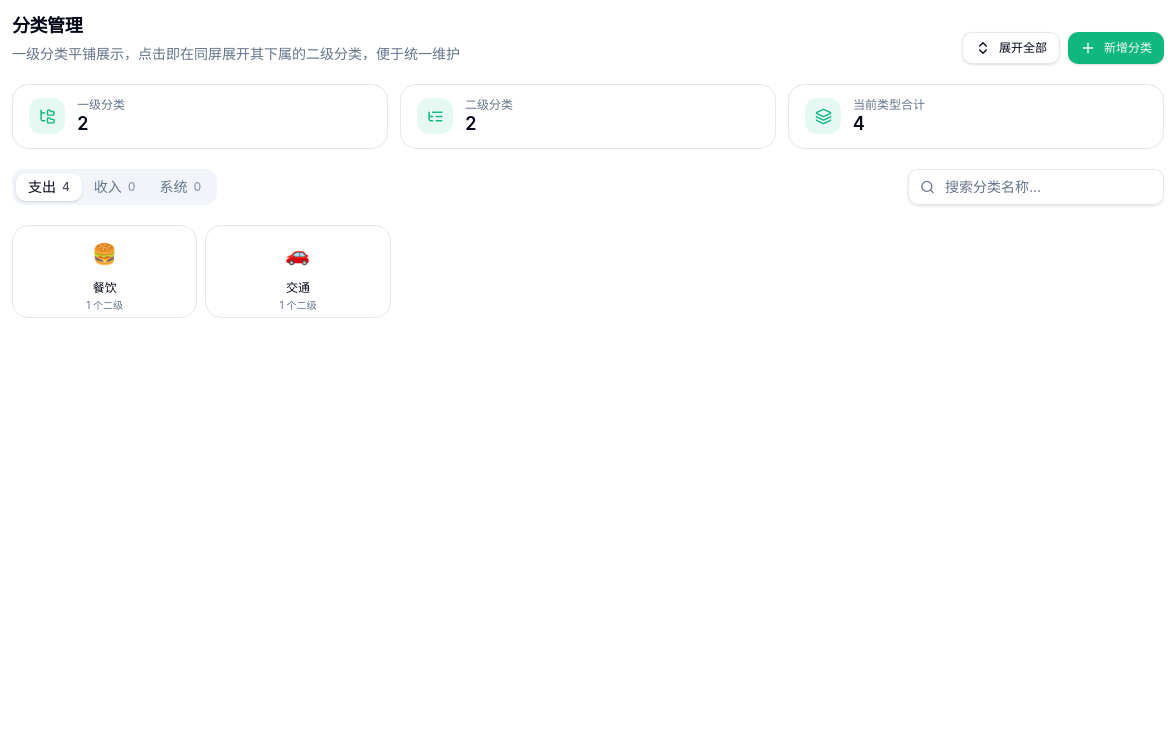
Test: 分类管理页 - 层级展示 › 「展开全部」一次性展开所有一级分类
Expected: the text "餐饮" is shown, [93,280,117,294]
Click the button "展开全部": (1011, 48) [962,32,1060,64]
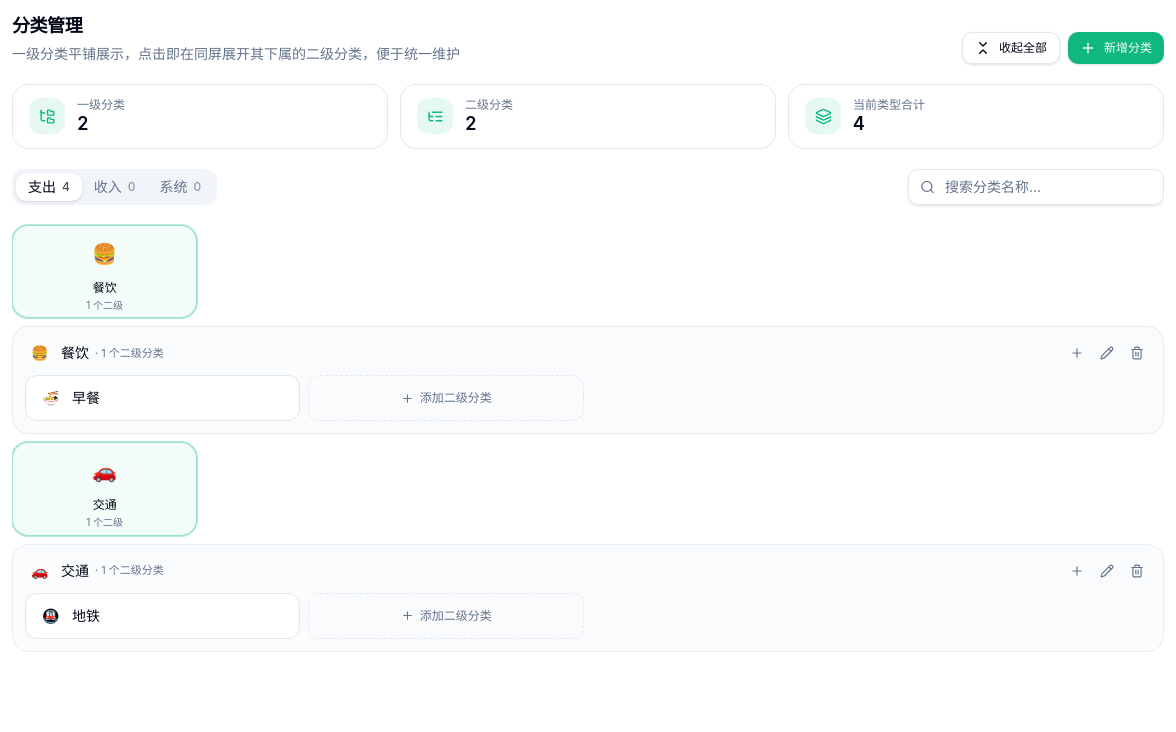
Now the text "早餐" is shown, box [72,389,100,406]
Now the text "地铁" is shown, box [72,606,100,624]
